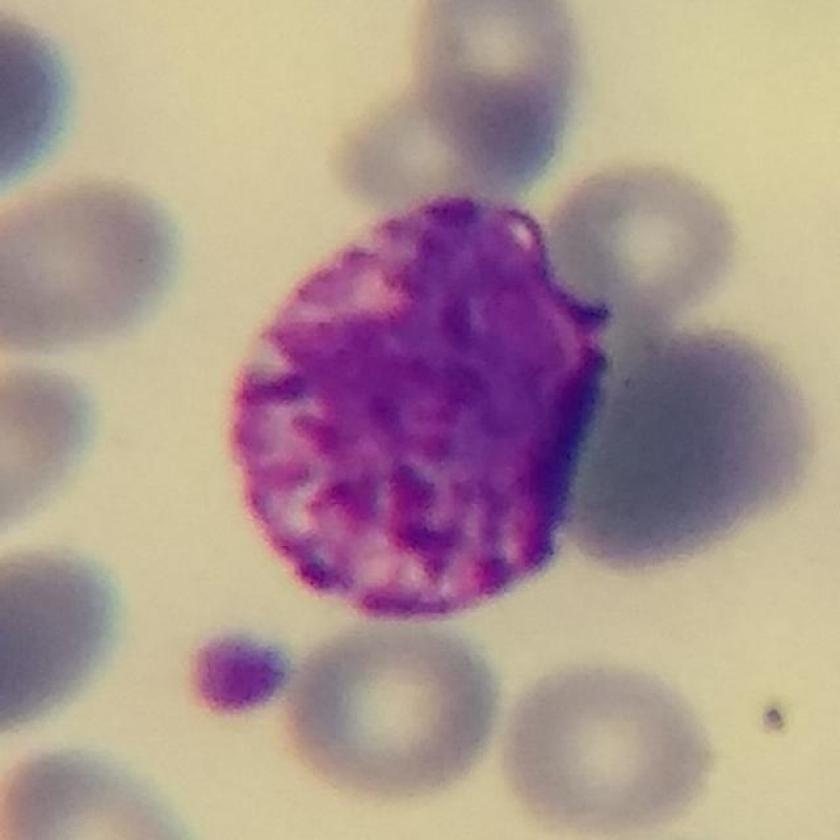basophil: (222, 177, 617, 634)
